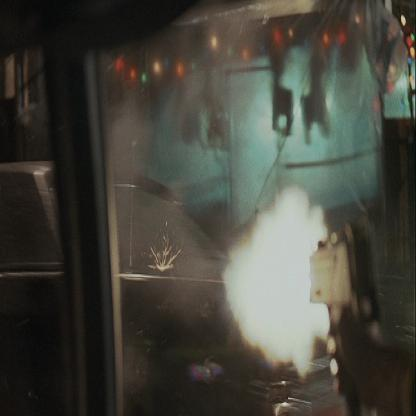Guns: (306, 208, 386, 414)
